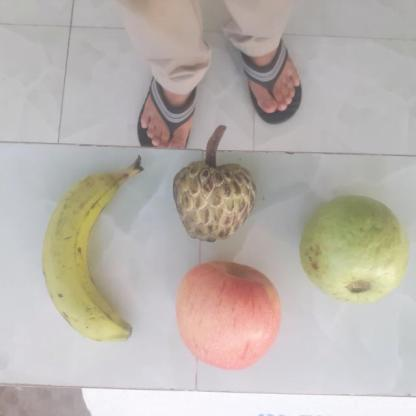annona: (172, 162, 260, 244)
apple: (174, 262, 286, 369)
banana: (45, 170, 138, 340)
guava: (304, 198, 413, 300)
